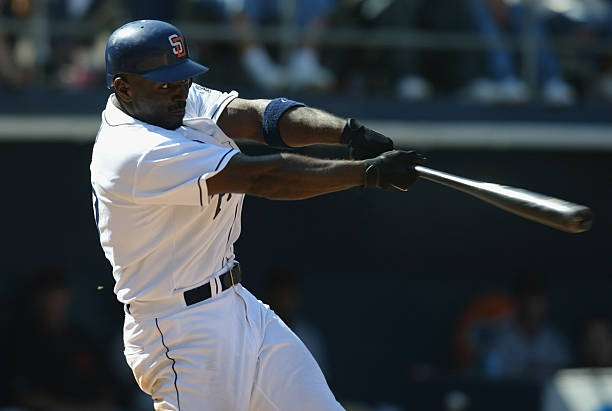bita: (407, 161, 596, 232)
